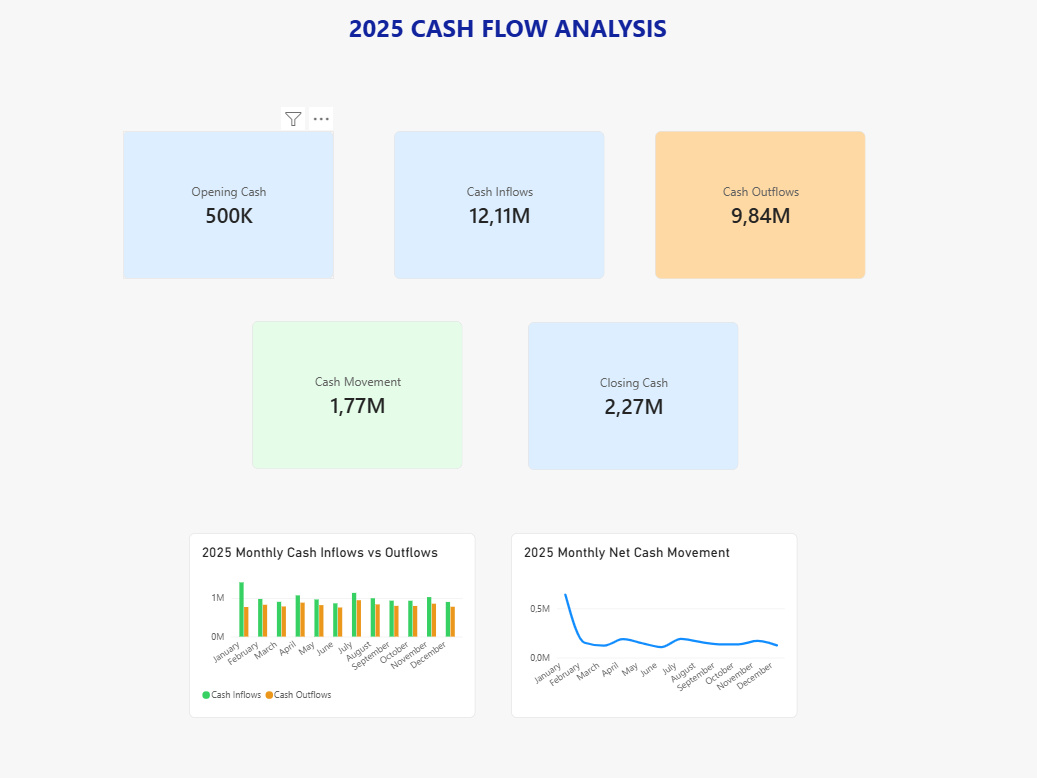

What the dashboard file says about the page in this screenshot:
{"tool":"powerbi","page":{"name":"2025 Cash Flow Analysis","canvas":[1920,1080],"ordinal":4},"visuals":[{"type":"cardVisual","fields":{"Data":["Budget_2025.Cash Inflows"]},"box":[804.3,188.4,280.5,197.4],"z":0},{"type":"cardVisual","fields":{"Data":["Budget_2025.Cash Movement Excluding Opening"]},"box":[615.9,441.1,280.5,197.4],"z":1000},{"type":"cardVisual","fields":{"Data":["Budget_2025.Cash Outflows"]},"box":[1151.2,188.4,280.5,197.4],"z":2000},{"type":"cardVisual","fields":{"Data":["Budget_2025.Closing Cash"]},"box":[983.2,442.4,280.5,197.4],"z":3000},{"type":"clusteredColumnChart","title":"2025 Monthly Cash Inflows vs Outflows","fields":{"Category":["Value to Month Number.Month Name"],"Y":["Budget_2025.Cash Inflows","Budget_2025.Cash Outflows"]},"box":[532.6,723.8,381,245.8],"z":4000},{"type":"lineChart","title":"2025 Monthly Net Cash Movement","fields":{"Category":["Value to Month Number.Month Name"],"Y":["Budget_2025.Net Cash Movement"]},"box":[960,723.8,381,245.8],"z":5000},{"type":"textbox","box":[0,29.1,1920,72.7],"z":6000},{"type":"cardVisual","fields":{"Data":["Budget_2025.Opening Cash"]},"box":[443.8,188.4,280.5,197.4],"z":7000}]}

Visuals, with their boxes on the page's 1920x1080 design canvas (x1, y1, x2, y2). These are canvas units, not pixel positions in the 1037x778 screenshot, which may show the page scaled, cropped or inside an application window:
cardVisual - Budget_2025.Cash Inflows: l=804, t=188, r=1085, b=386
cardVisual - Budget_2025.Cash Movement Excluding Opening: l=616, t=441, r=896, b=638
cardVisual - Budget_2025.Cash Outflows: l=1151, t=188, r=1432, b=386
cardVisual - Budget_2025.Closing Cash: l=983, t=442, r=1264, b=640
"2025 Monthly Cash Inflows vs Outflows" clusteredColumnChart: l=533, t=724, r=914, b=970
"2025 Monthly Net Cash Movement" lineChart: l=960, t=724, r=1341, b=970
textbox: l=0, t=29, r=1920, b=102
cardVisual - Budget_2025.Opening Cash: l=444, t=188, r=724, b=386
